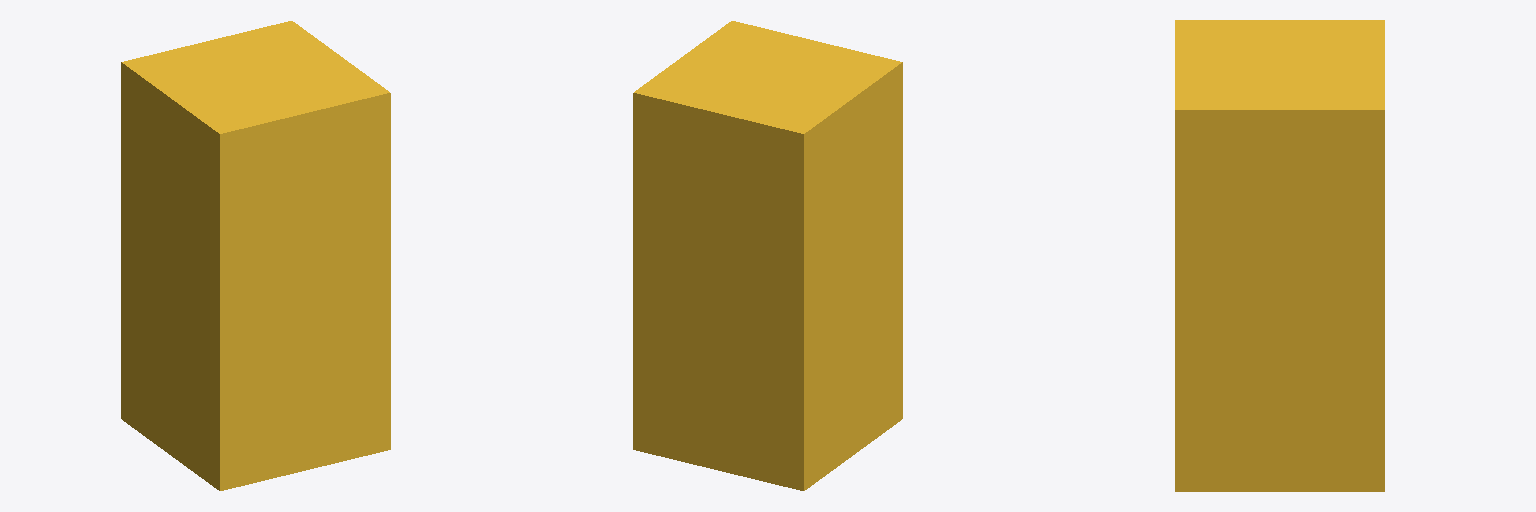
URDF robot description (custom_box):
<robot name="custom_box">

    <link name="box">
        <visual>
            <origin xyz="0 0 0" rpy="0 0 0"/>
            <geometry>
                <box size="0.5 0.5 1"/>
            </geometry>
            <material name="box_material">
                <color rgba="0.980392 0.796078 0.262745 1.0"/>
            </material>
        </visual>
        <collision>
            <origin xyz="0 0 0" rpy="0 0 0"/>
            <geometry>
                <box size="0.5 0.5 1"/>
            </geometry>
            <material name="box_material">
                <color rgba="0.980392 0.796078 0.262745 1.0"/>
            </material>
        </collision>
        <inertial>
            <origin xyz="0 0 0" rpy="0 0 0"/>
            <mass value="0.307775" />
            <inertia ixx="0.00215876" ixy="-5.91536e-50" ixz="0" iyy="0.00215876" iyz="0" izz="0.00394031" />
        </inertial>
    </link>

</robot>

--- Render facts (derived) ---
Views: 3 orthographic renders of the robot side by side, from view 1: azimuth 30°, elevation 25°; view 2: azimuth 150°, elevation 25°; view 3: azimuth 270°, elevation 25°.
Robot: custom_box — 1 links, 0 joints (none); root link box; default pose: all joints at 0.
Links seen in each view (by area): view 1: box; view 2: box; view 3: box.
Link boxes in pixels (x1,y1,x2,y2): box: (121, 21, 390, 490); box: (633, 21, 902, 490); box: (1175, 20, 1384, 491).
Size in the robot's own frame: 0.5 by 0.5 by 1 metres.
Geometry: primitives only (box / cylinder / sphere), no mesh files.
